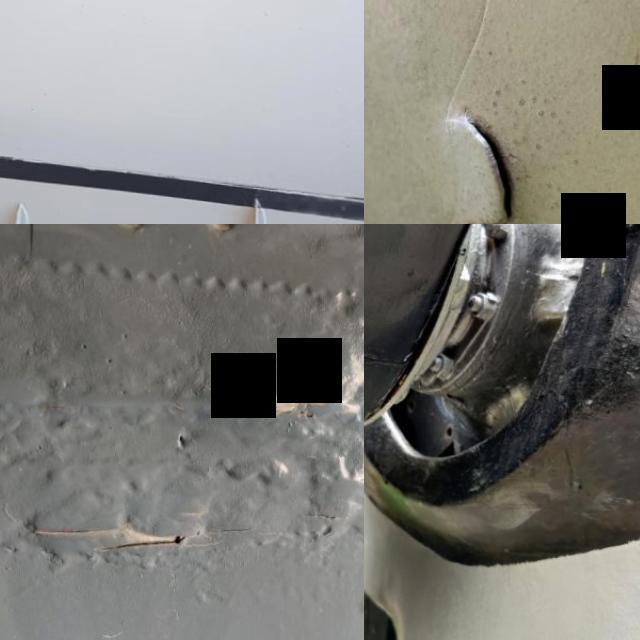Crack: (22, 489, 258, 571), (420, 84, 544, 224), (364, 272, 416, 381)
